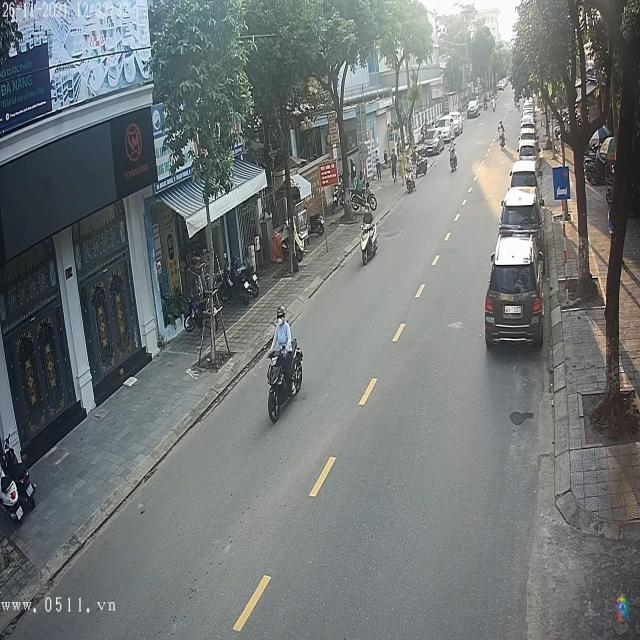car: (485, 232, 544, 348), (499, 190, 544, 238), (506, 159, 538, 200), (517, 144, 536, 162)
motorcycle: (266, 342, 304, 422), (360, 217, 380, 269)
